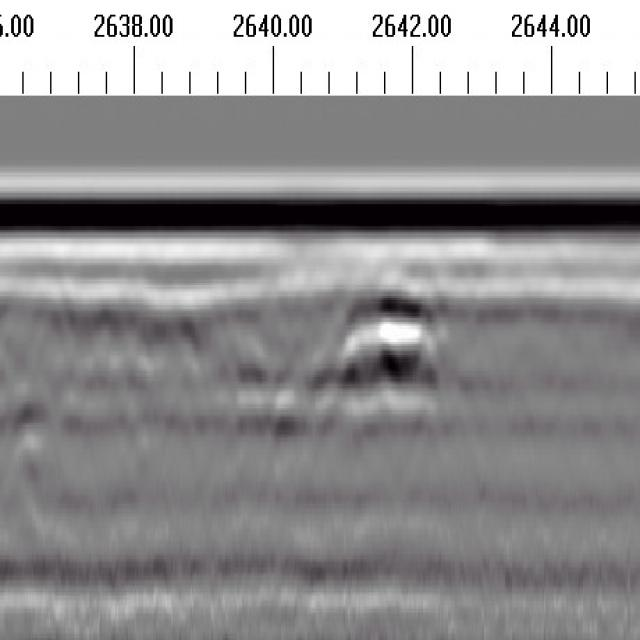loose: (300, 277, 446, 417)
